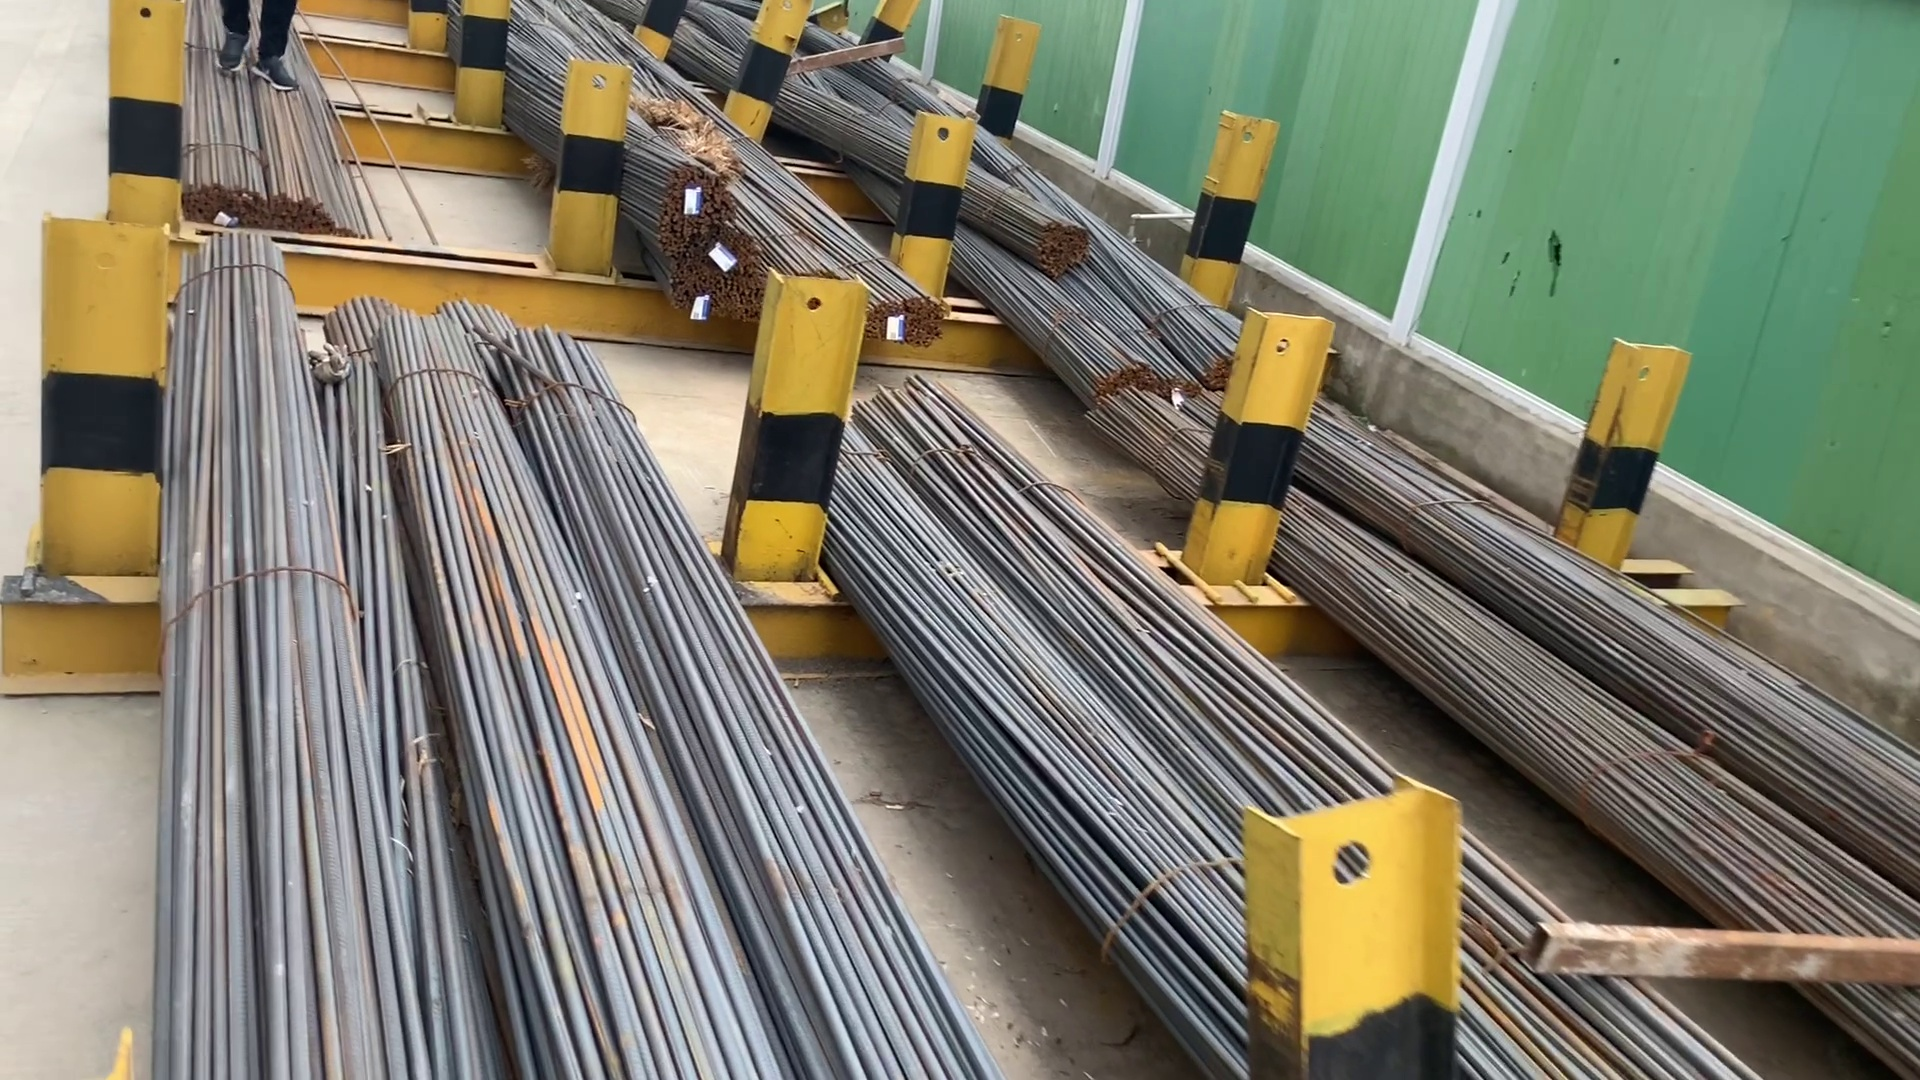rebar: (864, 287, 949, 349), (673, 249, 753, 314), (665, 164, 727, 243), (183, 170, 265, 229), (276, 189, 367, 237), (1038, 220, 1095, 280)
